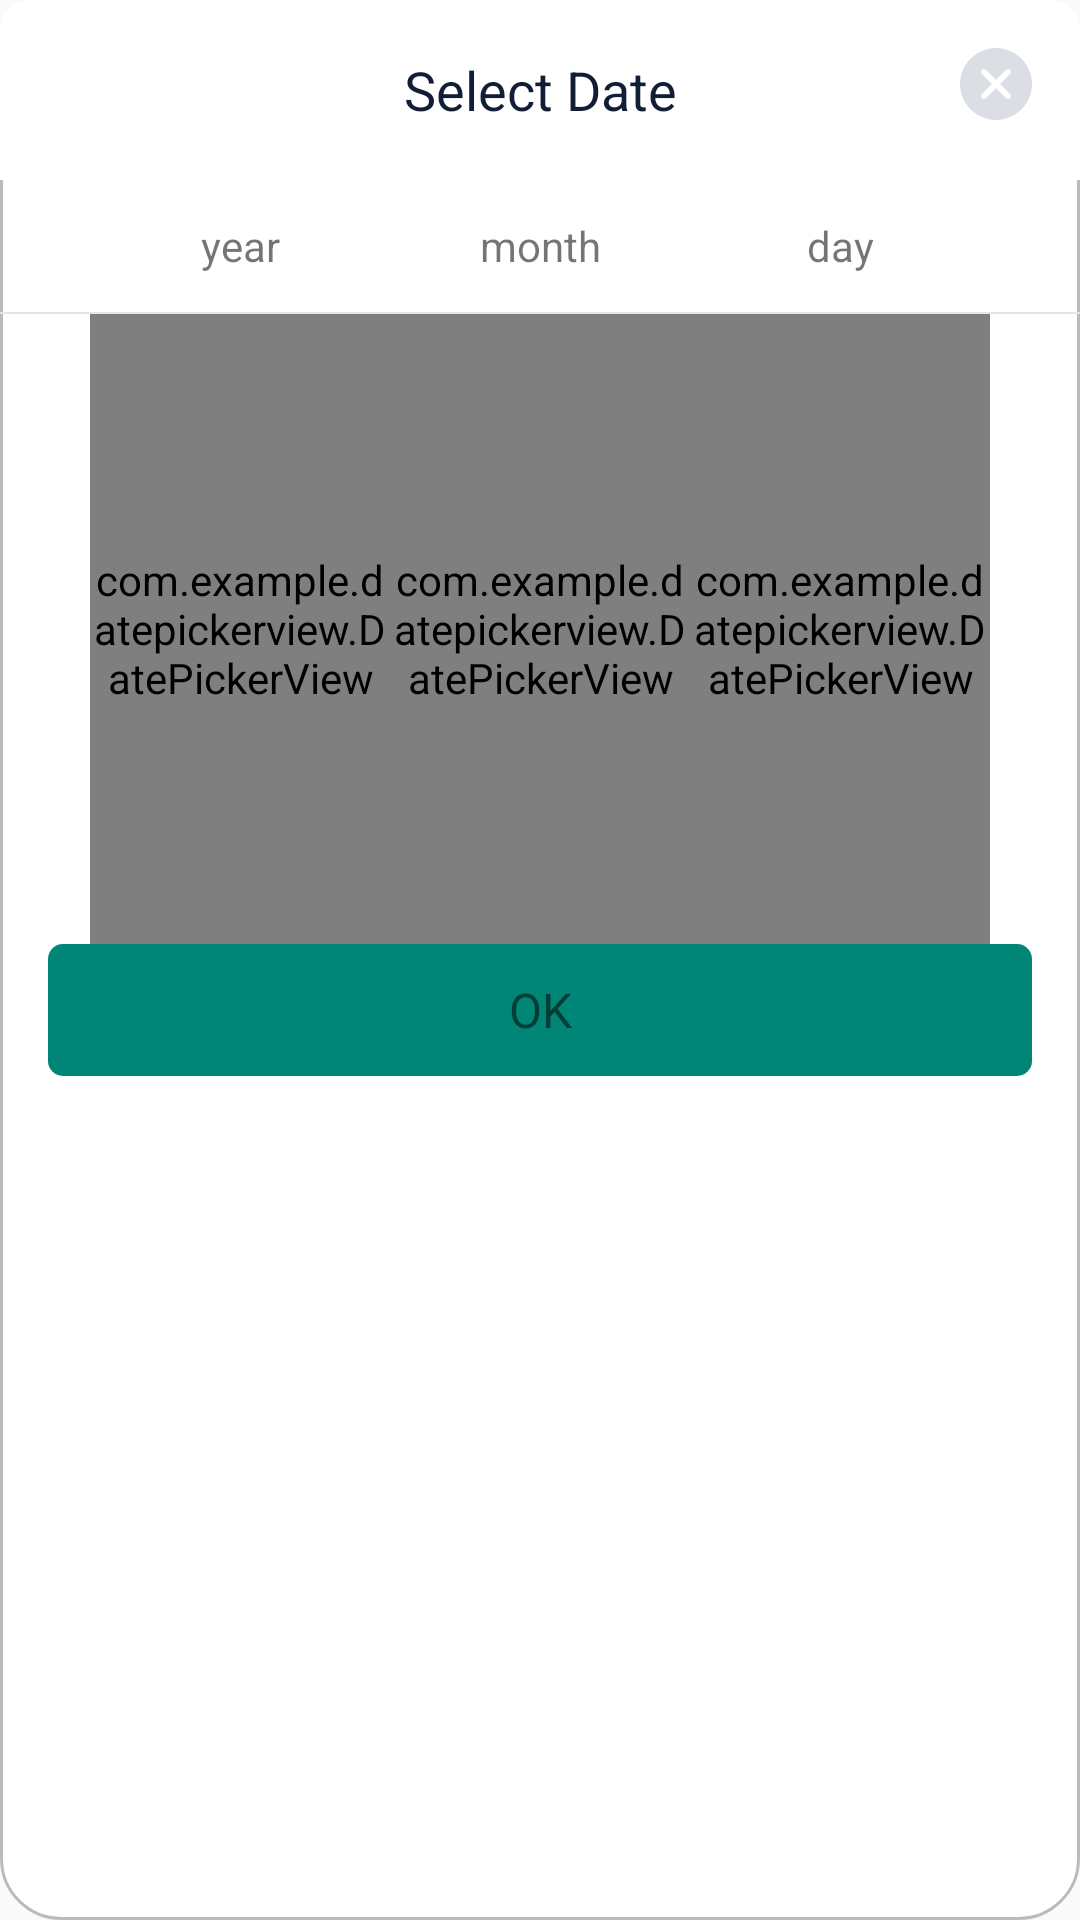

Point at icon controls on the screen. Image size 1080w x 1920h, points as (x=x, y=y).
close: (x=996, y=84)
